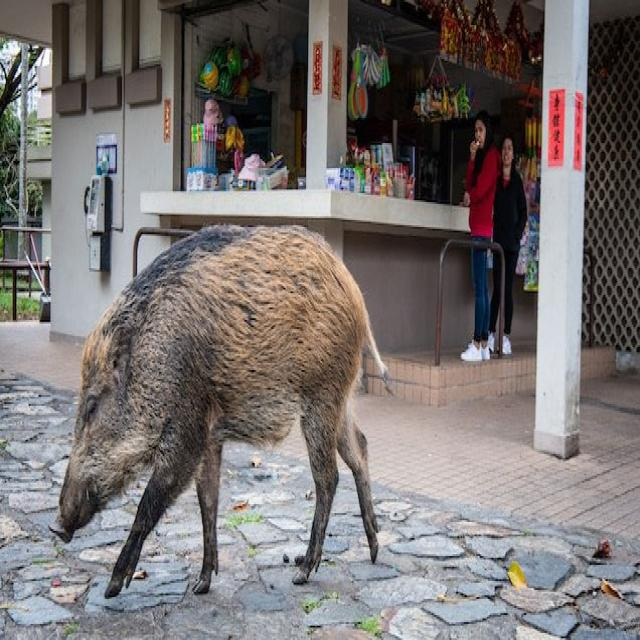Boar: (62, 220, 378, 592)
